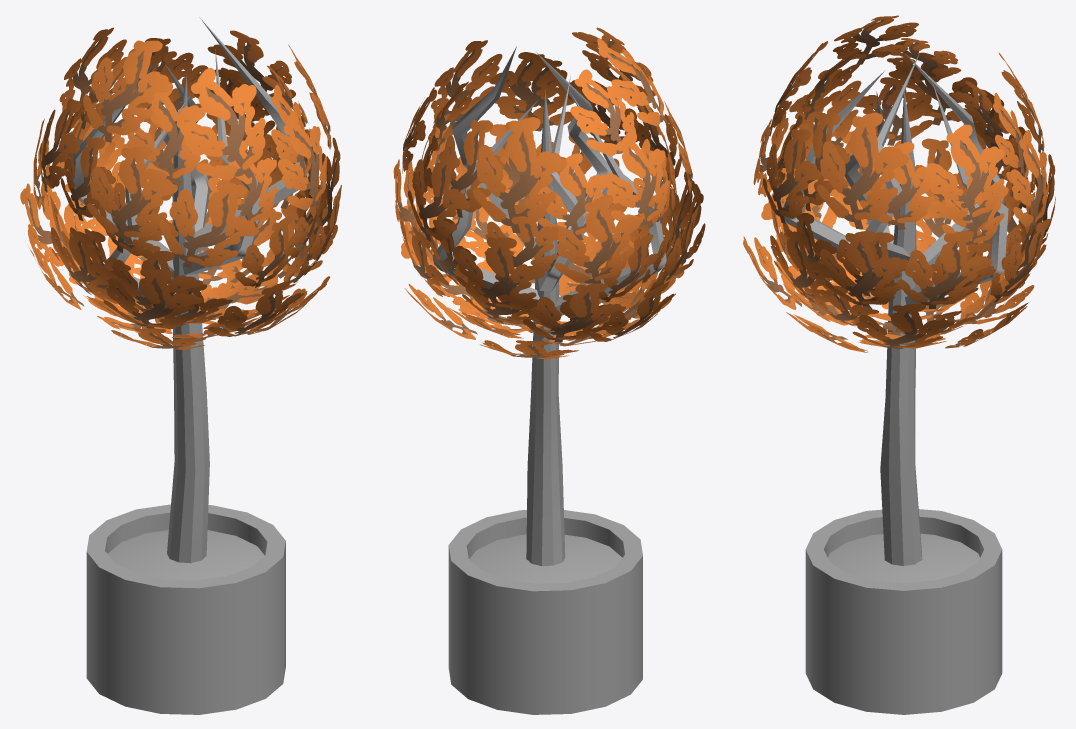
The model's file is SmallTree001.fbx.
3 renders of one model, left to right at view 1: azimuth 30°, elevation 25°; view 2: azimuth 150°, elevation 25°; view 3: azimuth 270°, elevation 25°, orthographic. The views are drawn at different scales.
Parts seen in each view (by area): view 1: concrete_box, smallTree_trunk, branch_and_plane_angle_1_29, branch_and_plane_angle_1_13, branch_and_plane_angle_1_30, branch_and_plane_angle_1_14, branch_and_plane_angle_1_32, branch_and_plane_angle_1_12, branch_and_plane_angle_1_28, branch_and_plane_angle_1_33, branch_and_plane_angle_1_18, branch_and_plane_angle_1_52 (+37 smaller); view 2: concrete_box, smallTree_trunk, branch_and_plane_angle_1_23, branch_and_plane_angle_1_20, branch_and_plane_angle_1_3, branch_and_plane_angle_1_19, branch_and_plane_angle_1_25, branch_and_plane_angle_1_22, branch_and_plane_angle_1_34, branch_and_plane_angle_1_31, branch_and_plane_angle_1_42, branch_and_plane_angle_1_27 (+33 smaller); view 3: concrete_box, smallTree_trunk, branch_and_plane_angle_1_27, branch_and_plane_angle_1_26, branch_and_plane_angle_1_8, branch_and_plane_angle_1_9, branch_and_plane_angle_1_28, branch_and_plane_angle_1_35, branch_and_plane_angle_1_1, branch_and_plane_angle_1_7, branch_and_plane_angle_1_25, branch_and_plane_angle_1_47 (+35 smaller).
Part boxes in pixels (x1,y1,x2,y2): concrete_box: (86,504,285,714); smallTree_trunk: (167,74,209,563); branch_and_plane_angle_1_29: (180,68,265,180); branch_and_plane_angle_1_13: (159,181,258,268); branch_and_plane_angle_1_30: (82,40,172,142); branch_and_plane_angle_1_14: (87,146,177,244); branch_and_plane_angle_1_32: (127,89,205,186); branch_and_plane_angle_1_12: (103,269,204,328); branch_and_plane_angle_1_28: (278,111,327,210); branch_and_plane_angle_1_33: (208,140,277,227); branch_and_plane_angle_1_18: (50,227,117,298); branch_and_plane_angle_1_52: (235,215,303,287); concrete_box: (448,510,642,714); smallTree_trunk: (526,89,565,566); branch_and_plane_angle_1_23: (473,117,567,232); branch_and_plane_angle_1_20: (554,195,640,283); branch_and_plane_angle_1_3: (456,237,545,311); branch_and_plane_angle_1_19: (603,130,669,228); branch_and_plane_angle_1_25: (408,151,470,241); branch_and_plane_angle_1_22: (523,283,625,342); branch_and_plane_angle_1_34: (489,52,567,119); branch_and_plane_angle_1_31: (570,69,635,156); branch_and_plane_angle_1_42: (537,153,608,240); branch_and_plane_angle_1_27: (431,40,502,128); concrete_box: (805,509,1002,714); smallTree_trunk: (880,92,922,566); branch_and_plane_angle_1_27: (817,112,908,228); branch_and_plane_angle_1_26: (926,124,1004,224); branch_and_plane_angle_1_8: (897,230,992,308); branch_and_plane_angle_1_9: (819,231,907,308); branch_and_plane_angle_1_28: (763,128,821,223); branch_and_plane_angle_1_35: (860,142,936,229); branch_and_plane_angle_1_1: (852,303,954,348); branch_and_plane_angle_1_7: (770,229,835,303); branch_and_plane_angle_1_25: (1010,130,1049,229); branch_and_plane_angle_1_47: (855,77,933,145).
Bounding box in the file's own units: 335 × 718 × 325.
